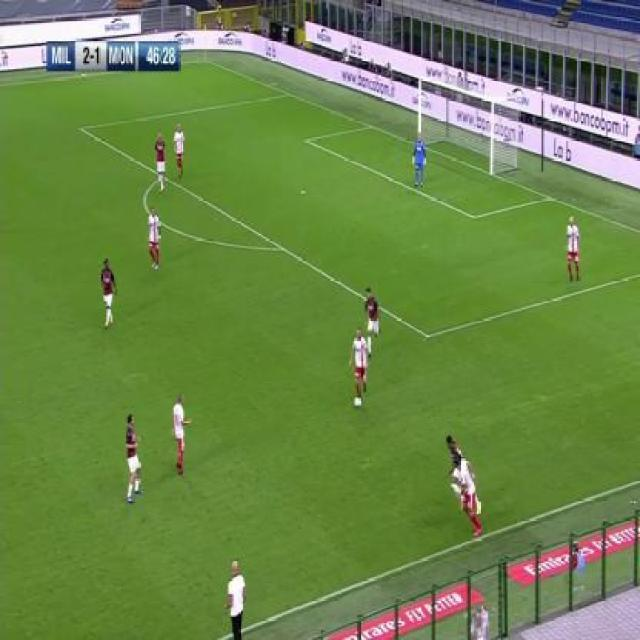ball: (354, 395, 362, 409)
player: (451, 452, 485, 540), (123, 412, 146, 506), (224, 558, 249, 640), (172, 390, 191, 476), (350, 326, 369, 402), (100, 257, 119, 328), (565, 212, 582, 283), (147, 202, 163, 273), (365, 285, 381, 354), (153, 127, 167, 195), (411, 132, 427, 189), (172, 121, 185, 180), (442, 434, 461, 470)
